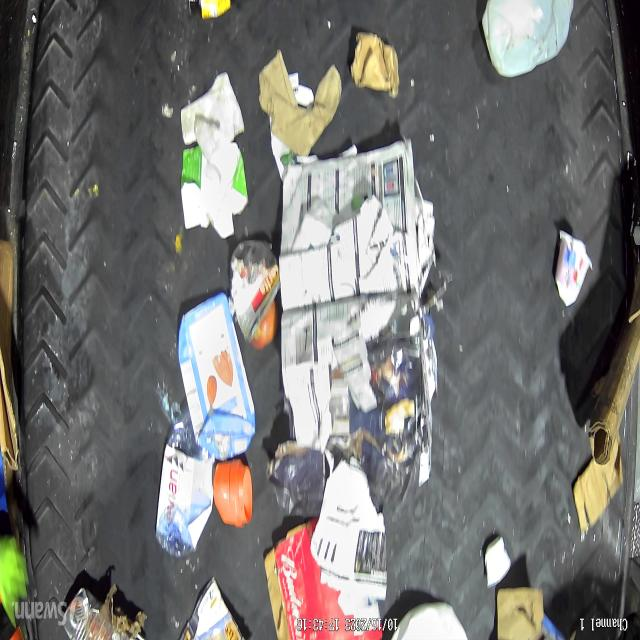can: (61, 585, 147, 640)
milk_jug: (478, 0, 573, 76)
plastic_bottle: (155, 404, 214, 558)
